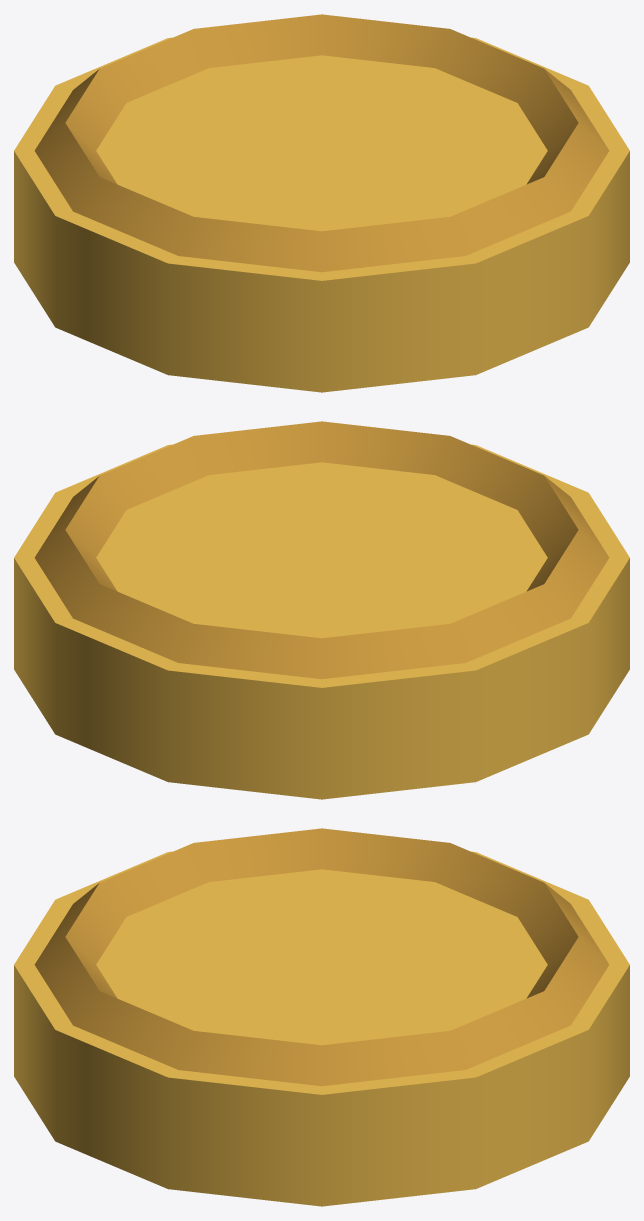
Rendered from PR_Drink_Para.fbx.
3 renders of one model, top to bottom at view 1: azimuth 30°, elevation 25°; view 2: azimuth 150°, elevation 25°; view 3: azimuth 270°, elevation 25°, orthographic.
Visible parts, largest first — view 1: PR_Drink_Para; view 2: PR_Drink_Para; view 3: PR_Drink_Para.
Boxes of the visible parts, x1,y1,x2,y2 form: PR_Drink_Para: (14, 14, 629, 392); PR_Drink_Para: (14, 421, 629, 799); PR_Drink_Para: (14, 828, 629, 1206).
Bounding box in the file's own units: 0.12 × 0.03 × 0.12.
1 material, 1 textured.
